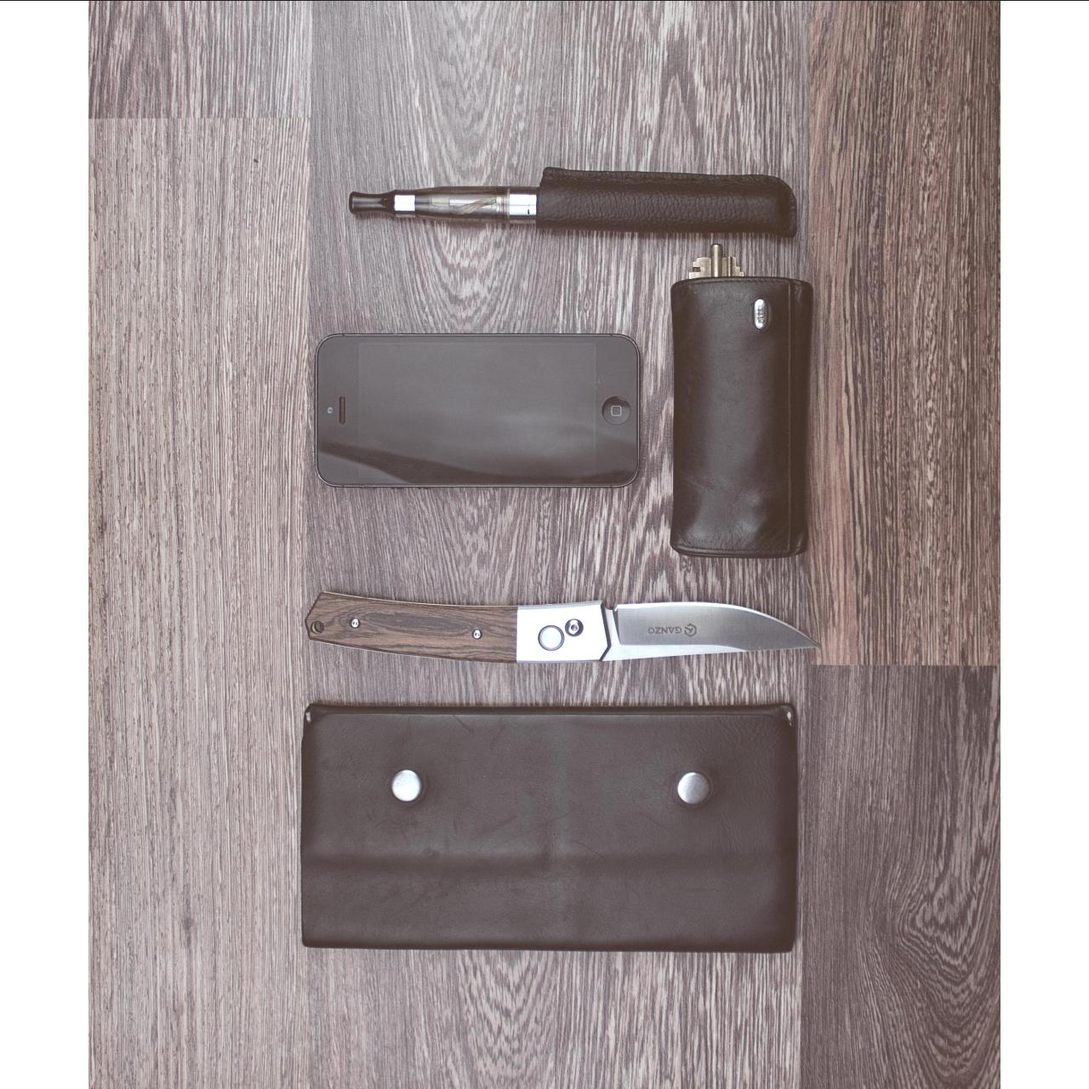wallet: (288, 698, 818, 951), (672, 232, 834, 566)
